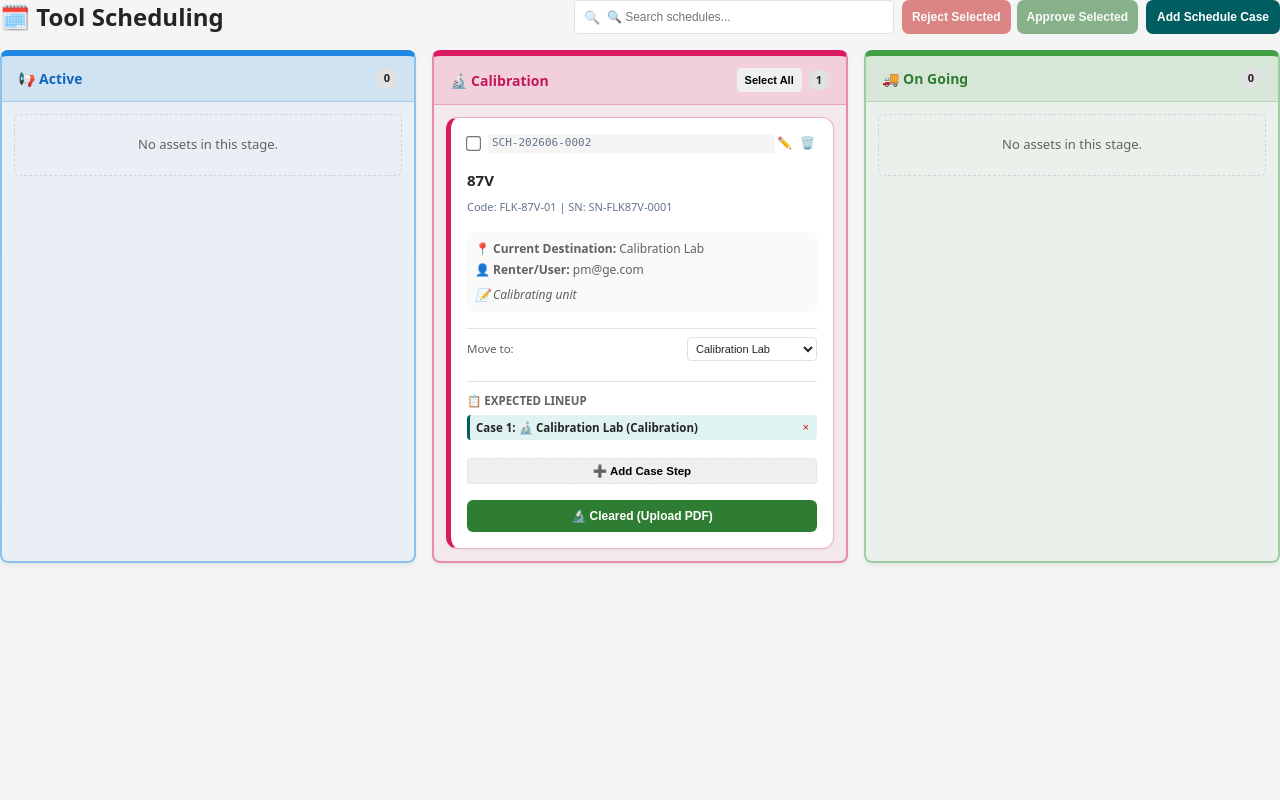
it: SchedulingTab Component › prompts the edit modal with target stage when an outbound stage change is requested from calibration on card
This screenshot has width=1280, height=800.
Expected: the text "SCH-202606-0002" is shown, [488,134,775,152]
Select "Active Rental" in the dropdown at (752, 348), box [687,336,817,360]
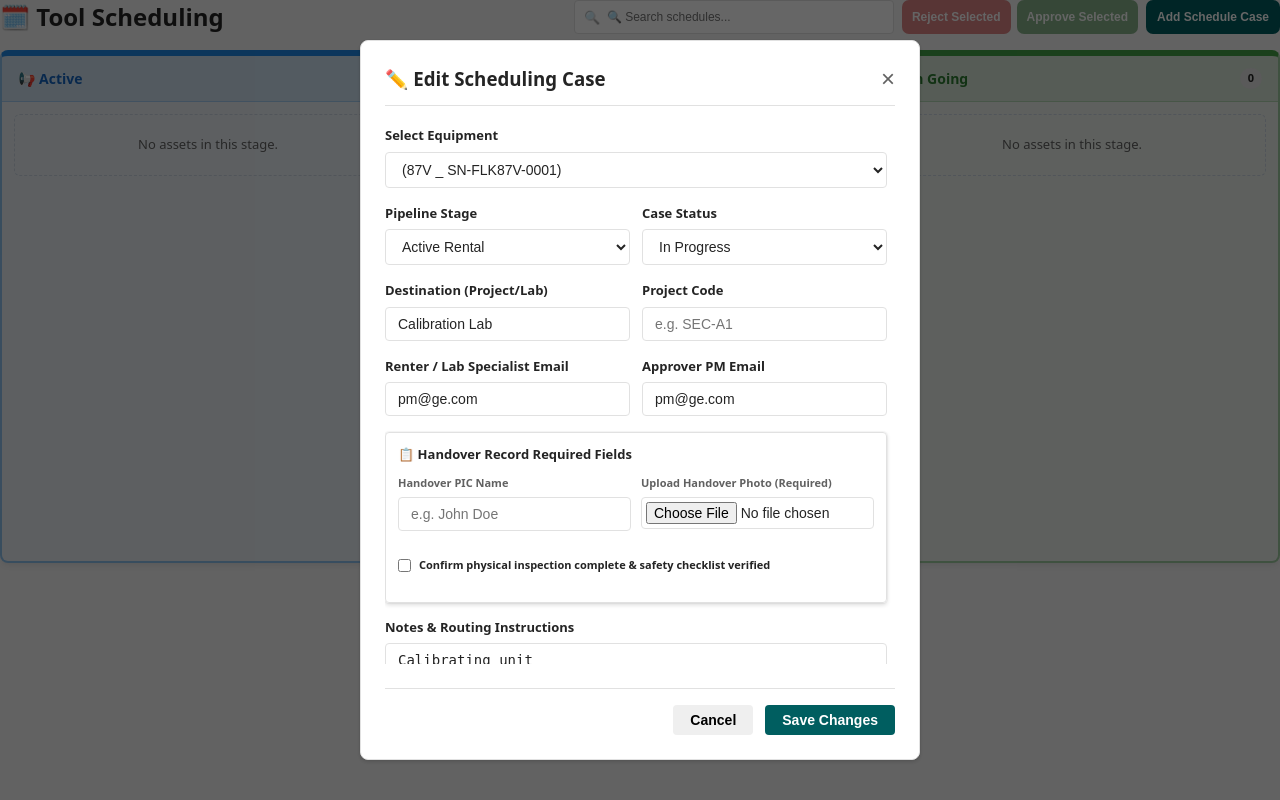
Expected: the heading "✏️ Edit Scheduling Case" is shown, [385,65,606,93]
Expected: the heading "📋 Handover Record Required Fields" is shown, [398,445,632,463]
Expected: the text "Handover PIC Name" is shown, [398,475,508,490]
